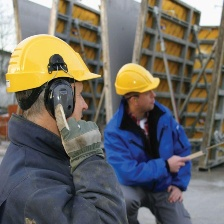helmet: (4, 31, 100, 86), (110, 64, 159, 96)
person: (0, 20, 120, 224), (99, 53, 189, 224)
vest: (1, 123, 115, 224)
